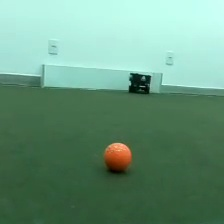ball: (100, 139, 133, 174)
goal: (40, 61, 165, 96)
robot: (126, 70, 152, 95)
